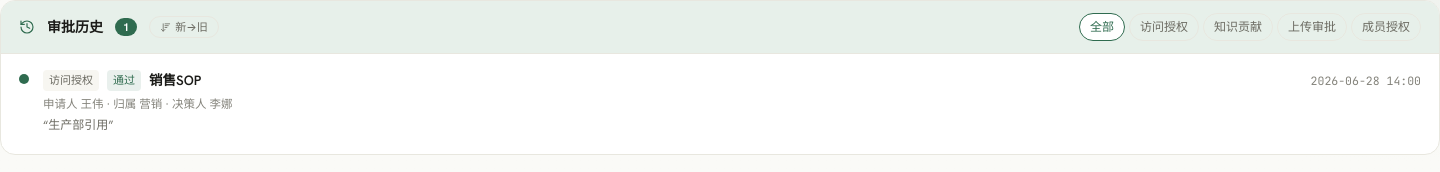
ApprovalHistory › 过滤后为空 → 当前筛选无记录
Click the tab "成员授权": point(1386, 27) [1351,13,1421,41]
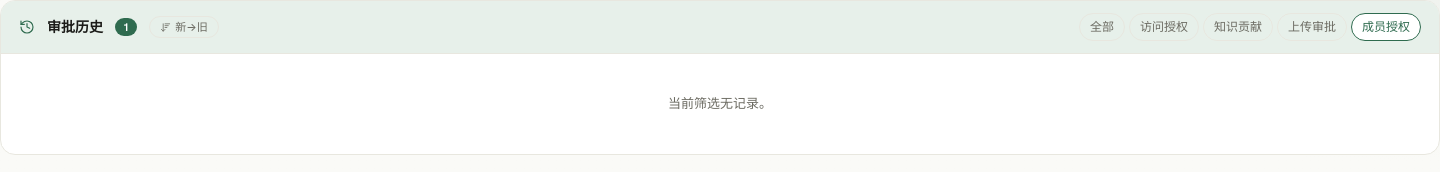
Result: the text "当前筛选无记录" is shown at [668,95,772,112]
